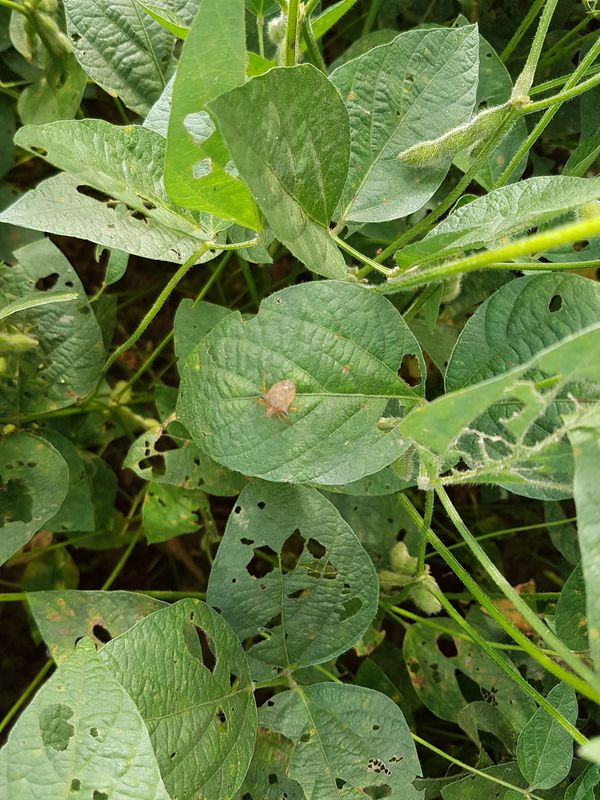Euschistus_heros_adulto: (246, 364, 307, 429)
